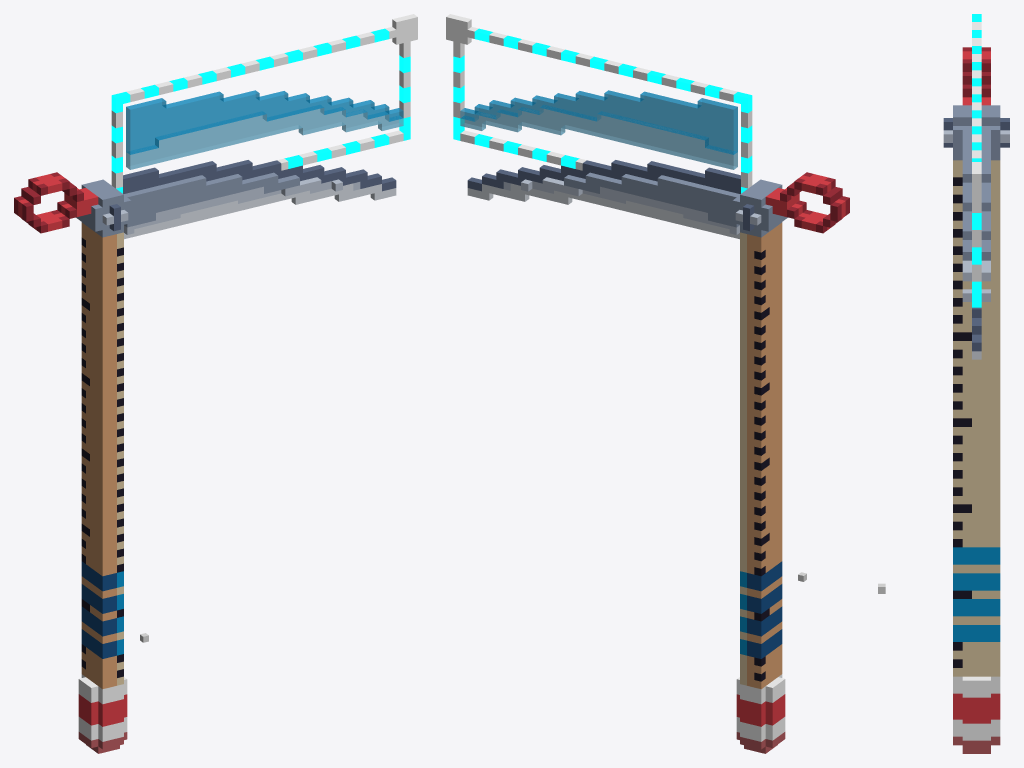
The model's file is CopyPasteScythe.fbx.
3 views of the same model, side by side, from view 1: azimuth 30°, elevation 25°; view 2: azimuth 150°, elevation 25°; view 3: azimuth 270°, elevation 25° (orthographic). The views are drawn at different scales.
Parts seen in each view (by area): view 1: wood, clone, clone_l, steel, whiteglow, steel_d, inkglow, marker, chrome, line, grip, steel_l (+3 smaller); view 2: wood, clone, clone_l, steel, whiteglow, steel_d, inkglow, wood_l, marker, line, chrome, grip (+3 smaller); view 3: wood_l, steel, grip_l, line, paper, marker, whiteglow, inkglow, steel_l, marker_d, steel_d, rubber_d.
Part boxes in pixels (<box>): wood: <box>81,222,116,689</box>; clone: <box>126,90,403,154</box>; clone_l: <box>126,105,403,169</box>; steel: <box>76,172,299,237</box>; whiteglow: <box>111,14,417,188</box>; steel_d: <box>109,160,396,231</box>; inkglow: <box>111,28,410,193</box>; marker: <box>18,174,127,726</box>; chrome: <box>124,183,396,239</box>; line: <box>81,237,123,677</box>; grip: <box>81,561,116,658</box>; steel_l: <box>102,177,360,234</box>; wood: <box>747,222,782,689</box>; clone: <box>460,90,737,154</box>; clone_l: <box>460,105,737,169</box>; steel: <box>564,172,787,237</box>; whiteglow: <box>446,14,752,188</box>; steel_d: <box>467,160,754,231</box>; inkglow: <box>453,28,752,193</box>; wood_l: <box>740,232,746,685</box>; marker: <box>736,174,845,726</box>; line: <box>754,250,769,681</box>; chrome: <box>467,183,739,239</box>; grip: <box>747,561,782,658</box>; wood_l: <box>953,160,1000,676</box>; steel: <box>953,105,1000,260</box>; grip_l: <box>953,547,1000,641</box>; line: <box>953,177,971,667</box>; paper: <box>953,676,1000,740</box>; marker: <box>953,51,1000,723</box>; whiteglow: <box>972,22,981,281</box>; inkglow: <box>972,14,981,307</box>; steel_l: <box>943,130,1009,301</box>; marker_d: <box>962,47,990,97</box>; steel_d: <box>943,118,1009,351</box>; rubber_d: <box>953,736,1000,753</box>.
Bounding box in the file's own units: 550 × 870 × 139.
